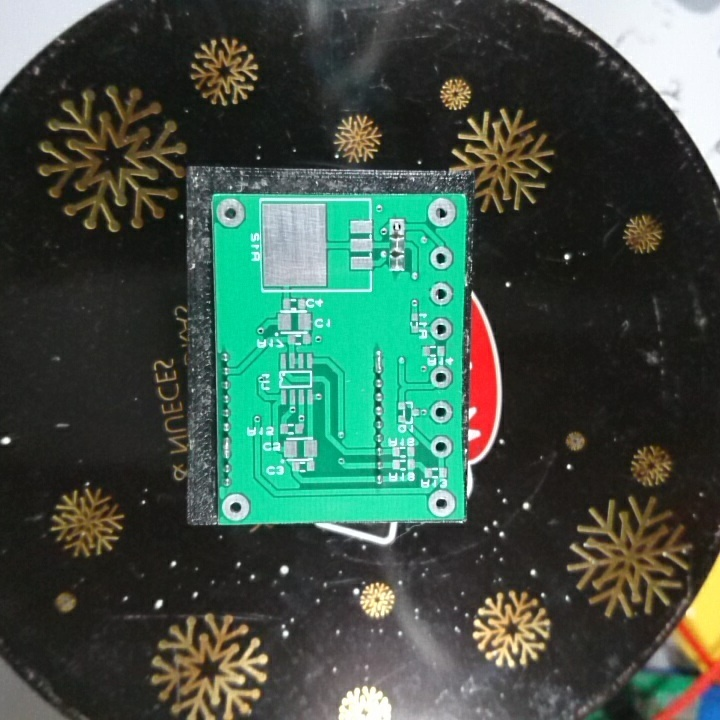F: (213, 194, 248, 233), (426, 195, 460, 229), (424, 487, 458, 520), (220, 492, 253, 524), (427, 243, 457, 275), (427, 280, 456, 310), (427, 314, 455, 343), (427, 363, 455, 392), (428, 400, 456, 426), (429, 434, 454, 461), (387, 216, 408, 238)
P: (370, 346, 387, 377), (219, 434, 236, 462)
